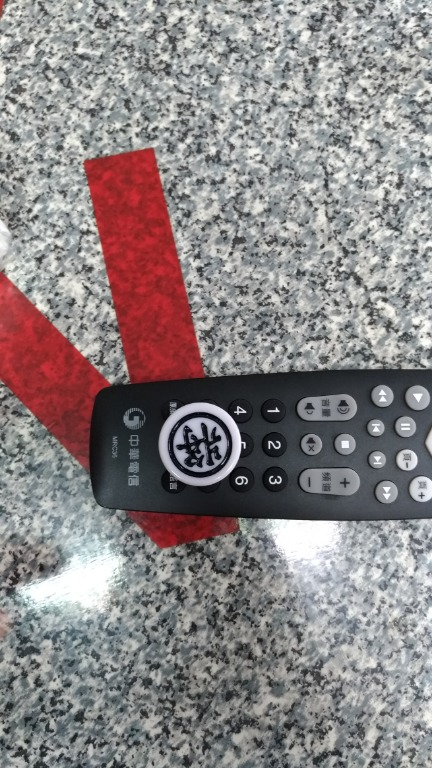b-king: (123, 390, 275, 502)
